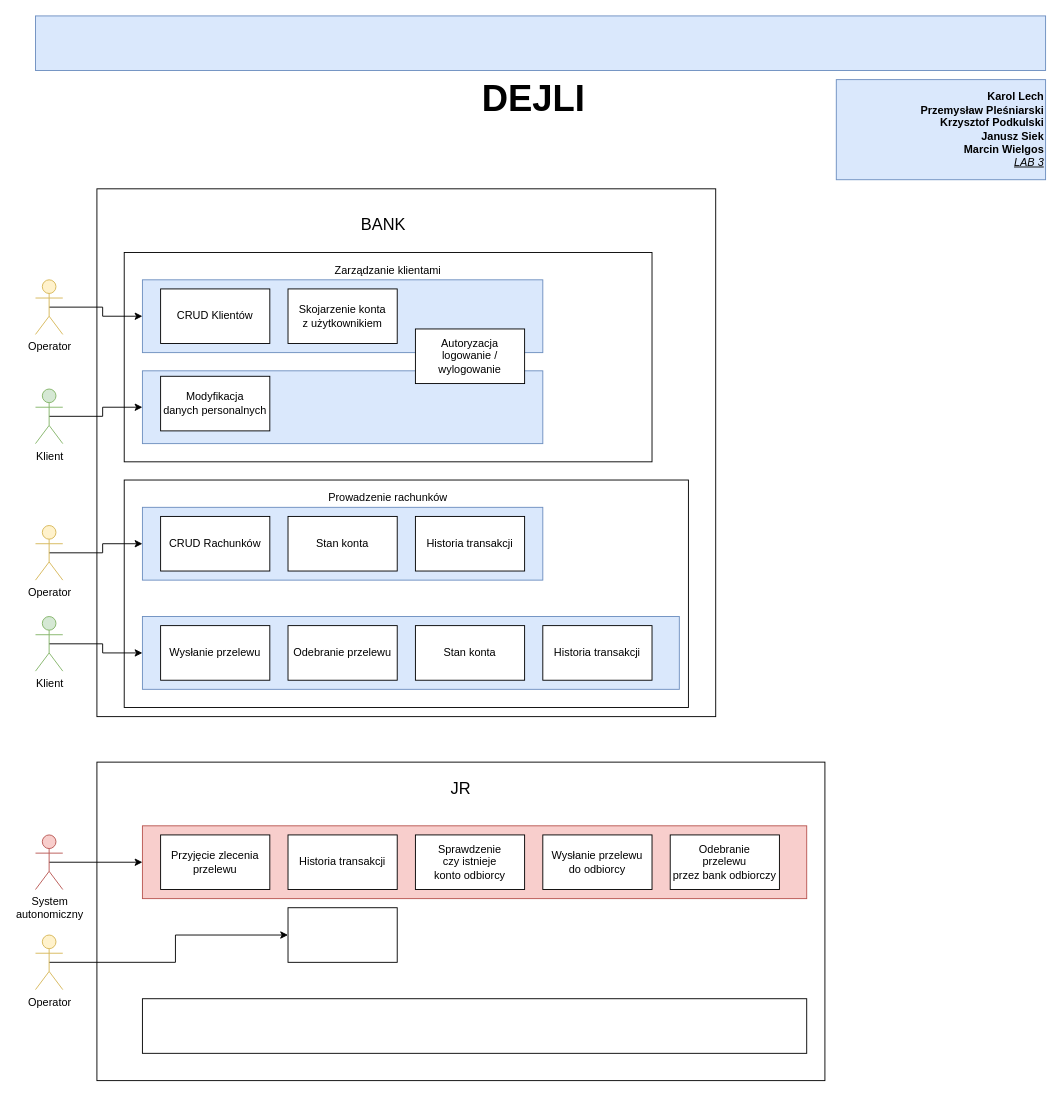
Image size: 1062x1097. Some labels were removed from this diagram. The shapes that lost their labels are listed below. From the top down, each one's centre as x and y in pixels, then its label:
At point 540,43: "Ekosystem bankowości rok akademicki 2020/21, semestr zimowy".
At point 342,934: "Moduł weryfikacji na podstawie zgromadzonej historii transakcji".
At point 474,1025: "Zgodnie z sesjami godzinowowymi + Statusowanie".
